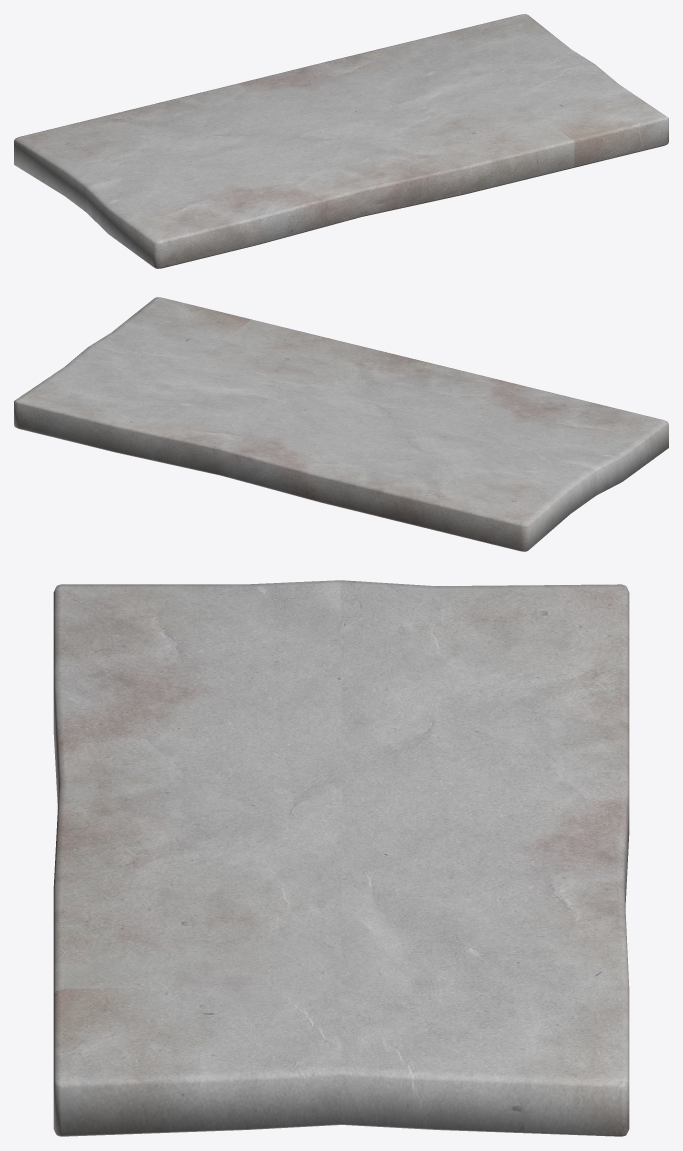
Rendered from gasStation_roof.fbx.
The picture shows the model from 3 angles, top to bottom: view 1: azimuth 30°, elevation 25°; view 2: azimuth 150°, elevation 25°; view 3: azimuth 270°, elevation 25°; orthographic projection. The views are drawn at different scales.
Visible parts, largest first — view 1: gasStation_roof; view 2: gasStation_roof; view 3: gasStation_roof.
Boxes of the visible parts, bbox=[...] form: gasStation_roof: bbox=[14, 14, 668, 268]; gasStation_roof: bbox=[14, 297, 668, 551]; gasStation_roof: bbox=[53, 580, 629, 1136].
Bounding box in the file's own units: 1549 × 92.18 × 750.
